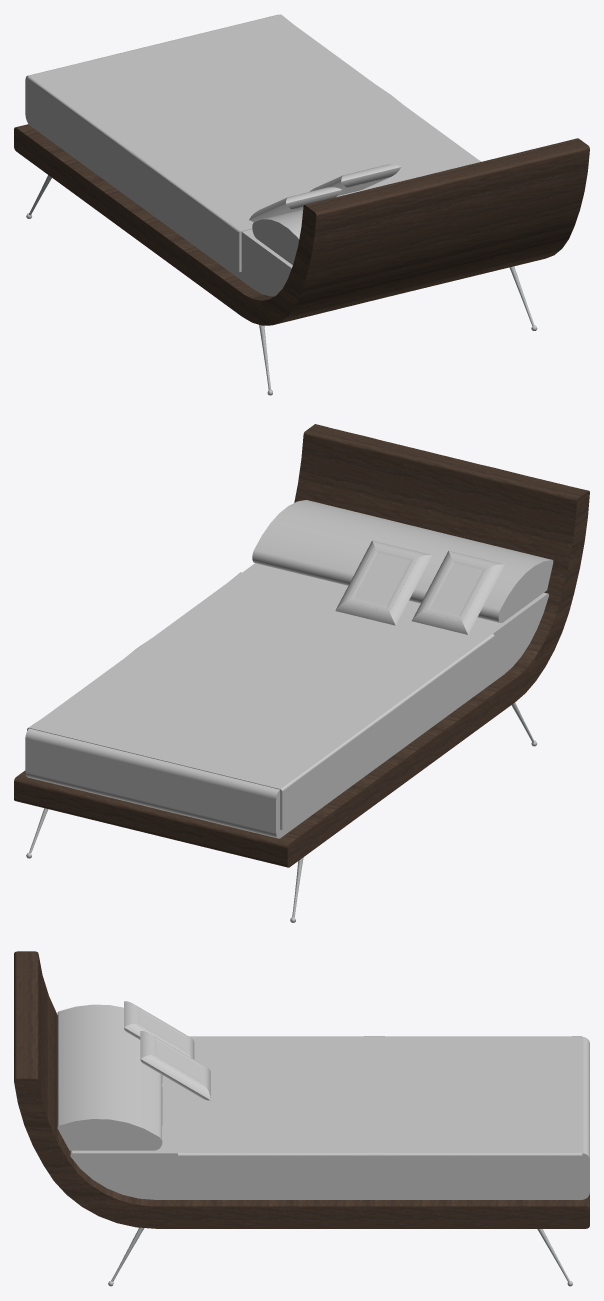
The model's file is bed_-_v1.glb.
The picture shows the model from 3 angles, top to bottom: view 1: azimuth 30°, elevation 25°; view 2: azimuth 150°, elevation 25°; view 3: azimuth 270°, elevation 25°; orthographic projection. The views are drawn at different scales.
Parts seen in each view (by area): view 1: Sweep [16005], Extrusion [4318], Extrusion [4374], Extrusion [4615], Sweep [19269], Sweep [19804]; view 2: Sweep [16005], Extrusion [4318], Extrusion [4374], Extrusion [4615], Sweep [19804], Sweep [19269], Extrusion [19796], Extrusion [18856]; view 3: Sweep [16005], Extrusion [4318], Extrusion [4615], Extrusion [4374], Sweep [19804], Sweep [19269], Extrusion [19796], Extrusion [18856].
Boxes of the visible parts, x1,y1,x2,y2 form: Sweep [16005]: (27,14,480,271); Extrusion [4318]: (14,124,589,325); Extrusion [4374]: (25,14,292,296); Extrusion [4615]: (252,209,303,264); Sweep [19269]: (249,187,341,221); Sweep [19804]: (309,164,401,195); Sweep [16005]: (27,572,494,829); Extrusion [4318]: (14,424,589,867); Extrusion [4374]: (25,563,548,838); Extrusion [4615]: (252,500,553,622); Sweep [19804]: (335,540,432,625); Sweep [19269]: (412,550,504,634); Extrusion [19796]: (346,547,417,611); Extrusion [18856]: (422,557,490,621); Sweep [16005]: (178,1036,582,1192); Extrusion [4318]: (14,951,589,1228); Extrusion [4615]: (57,1004,162,1150); Extrusion [4374]: (70,1037,589,1199); Sweep [19804]: (140,1031,210,1100); Sweep [19269]: (124,1001,194,1059); Extrusion [19796]: (151,1035,206,1086); Extrusion [18856]: (135,1005,189,1055).
Size of the model in its own units: 1.2 by 0.924 by 2.3.
Materials: 5 (2 with a texture image).
